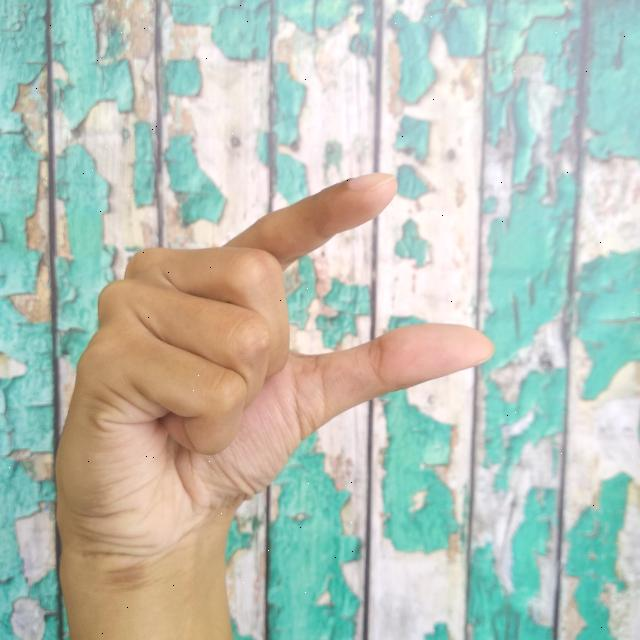G: (52, 169, 498, 640)
